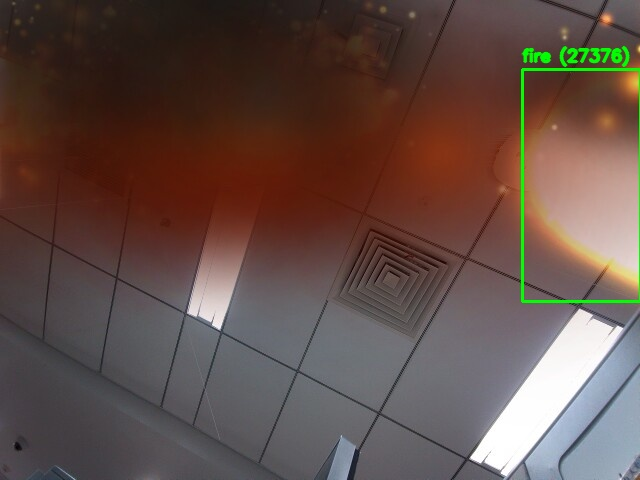fire: (522, 69, 640, 301)
